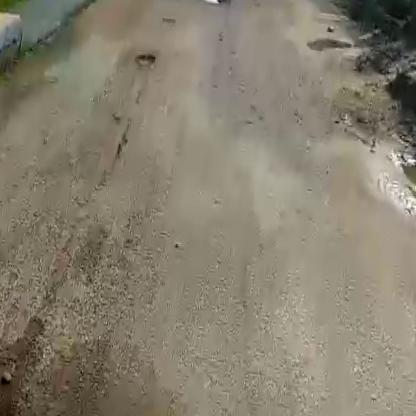pothole: (133, 50, 156, 71), (194, 0, 225, 7)
